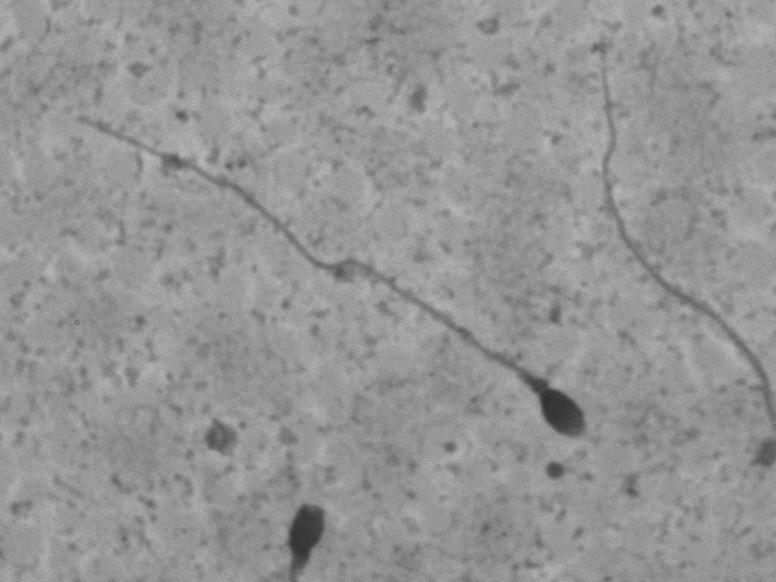Normal: (60, 94, 612, 452)
